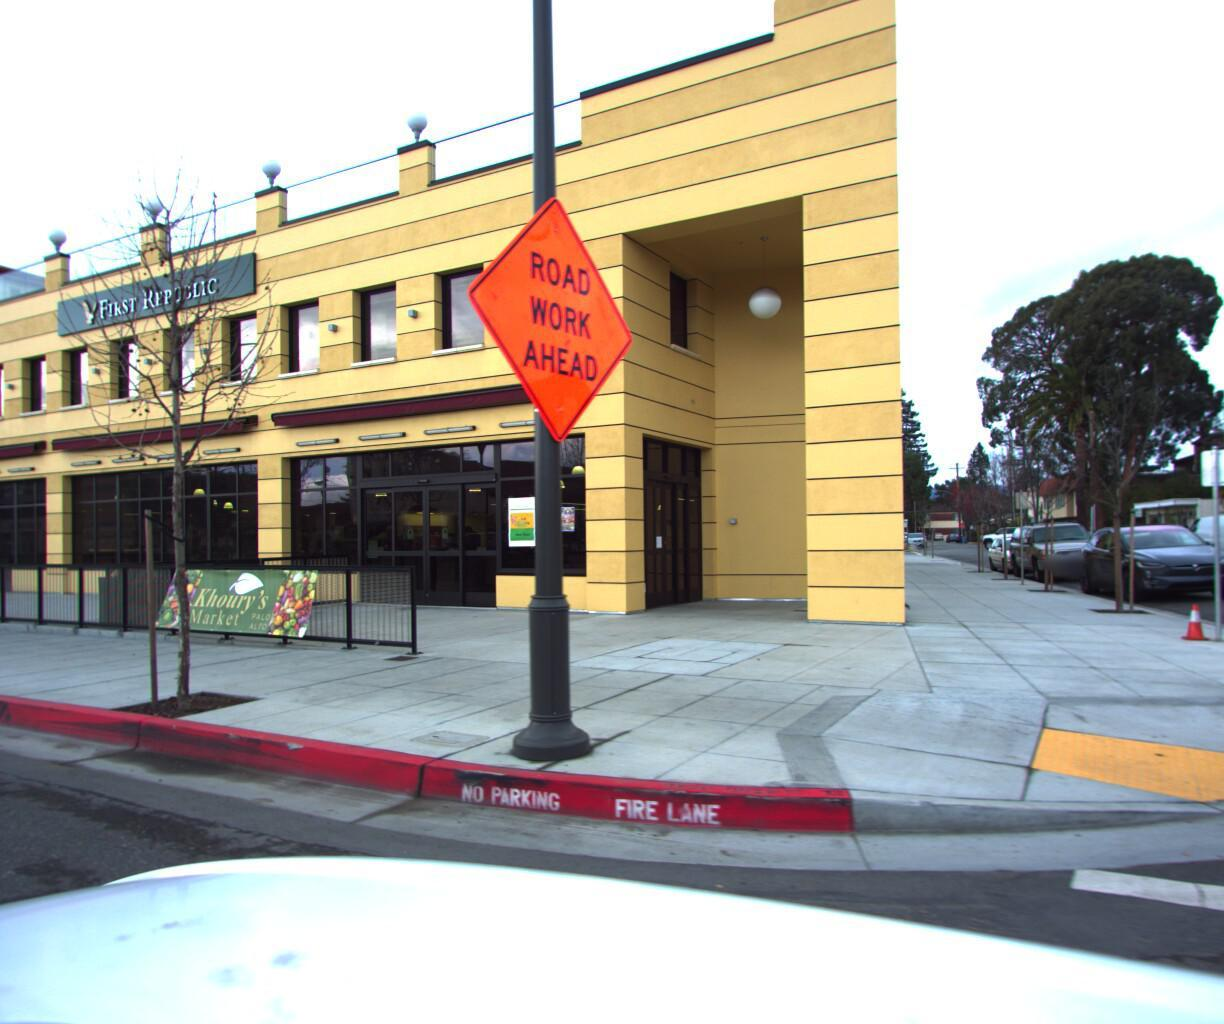car: (1065, 517, 1224, 603), (1003, 515, 1113, 579), (984, 530, 1054, 571), (1174, 504, 1224, 558), (977, 517, 1038, 540), (904, 527, 926, 542)
